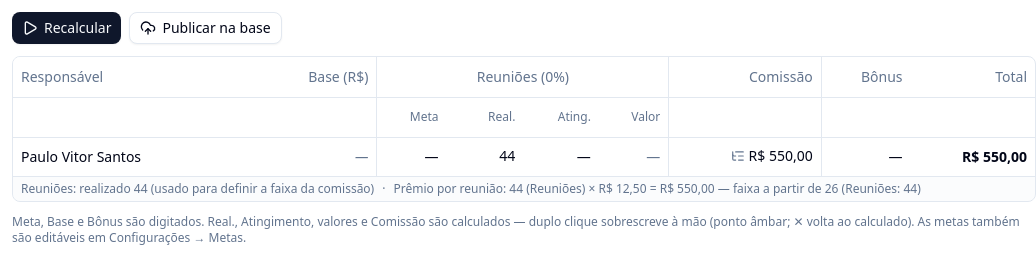
Test: CompGrid — memória de cálculo › duplo clique na célula Realizado segue abrindo o override manual
The width and height of the screenshot is (1036, 268).
Step 1. Double-click the cell named "Ver os registros que compõem este realizado" → (507, 155), box top-left (446, 137), bottom-right (523, 176)
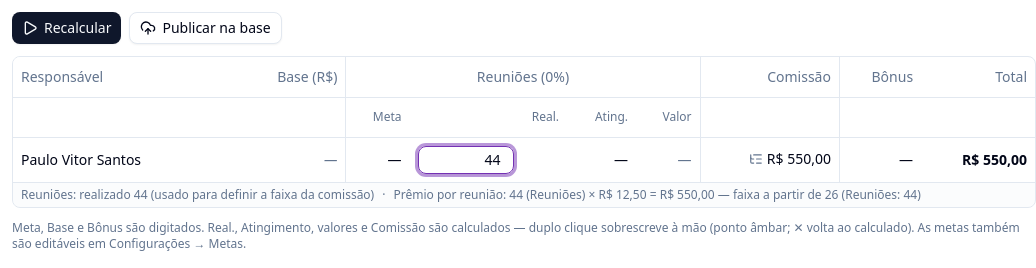
Check: the field is shown, box top-left (418, 146), bottom-right (514, 174)
